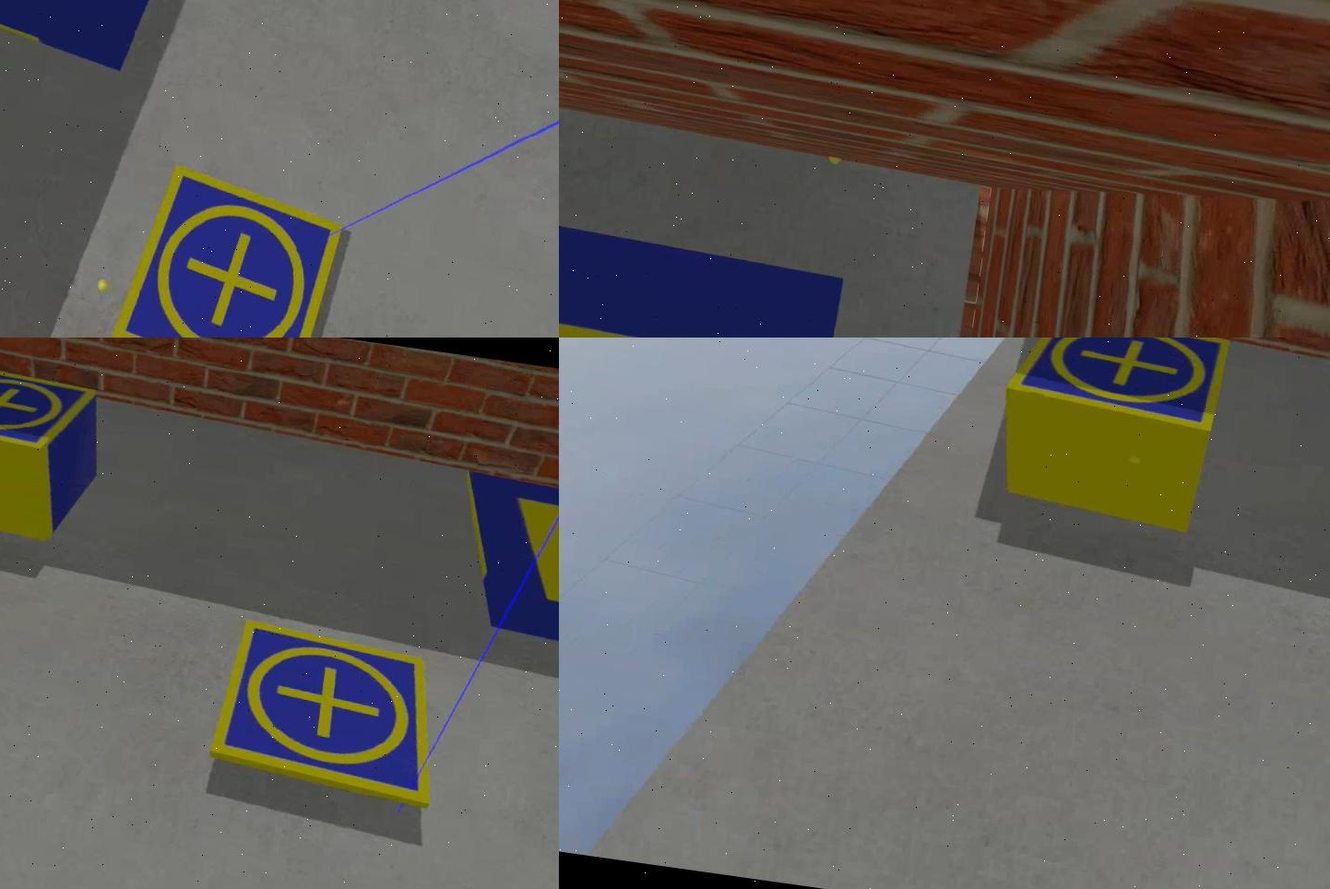large_base: (558, 153, 845, 338), (444, 465, 558, 667)
small_base: (206, 617, 443, 806), (103, 160, 352, 338), (1003, 338, 1231, 439), (0, 358, 97, 456)
